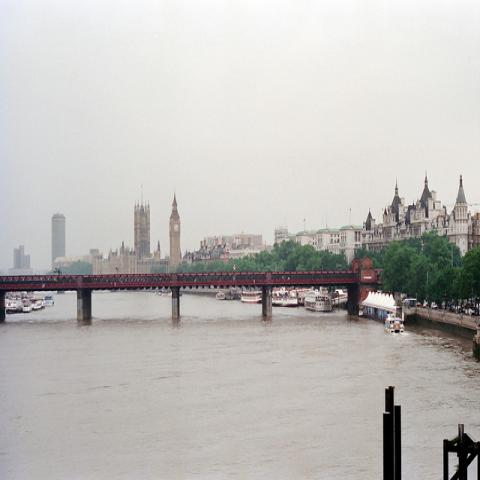car: (430, 302, 438, 310)
